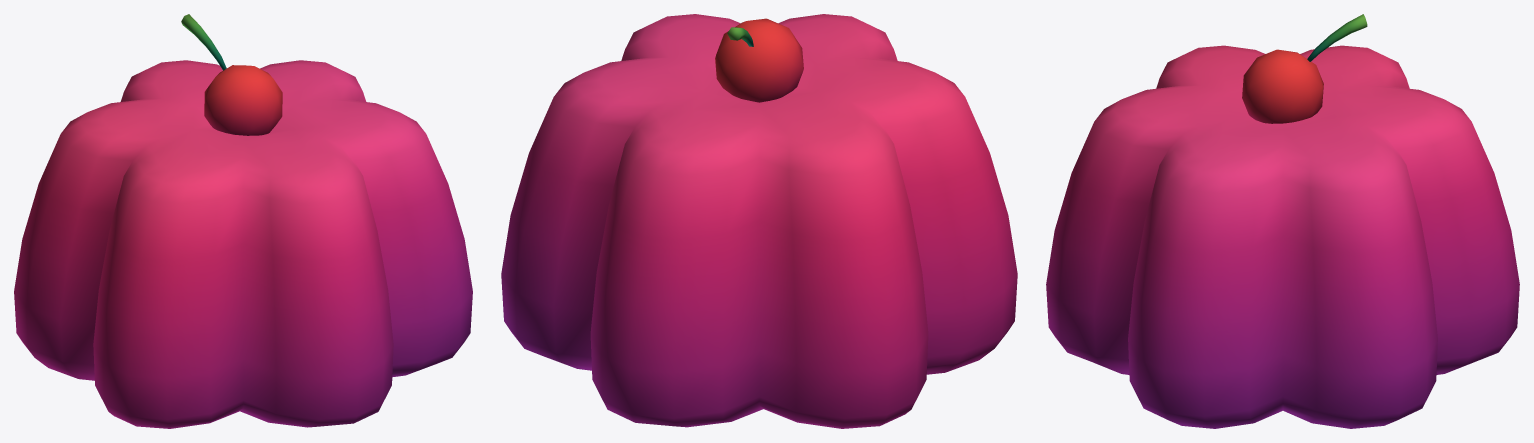
Rendered from jelly_001.fbx.
3 renders of one model, left to right at view 1: azimuth 30°, elevation 25°; view 2: azimuth 150°, elevation 25°; view 3: azimuth 270°, elevation 25°, orthographic. The views are drawn at different scales.
Parts seen in each view (by area): view 1: jelly_001; view 2: jelly_001; view 3: jelly_001.
Boxes of the visible parts, box(x1,y1,x2,y2) form: jelly_001: box(14, 14, 472, 428); jelly_001: box(501, 14, 1017, 428); jelly_001: box(1046, 14, 1519, 428).
Bounding box in the file's own units: 14.82 × 16.46 × 12.38.
